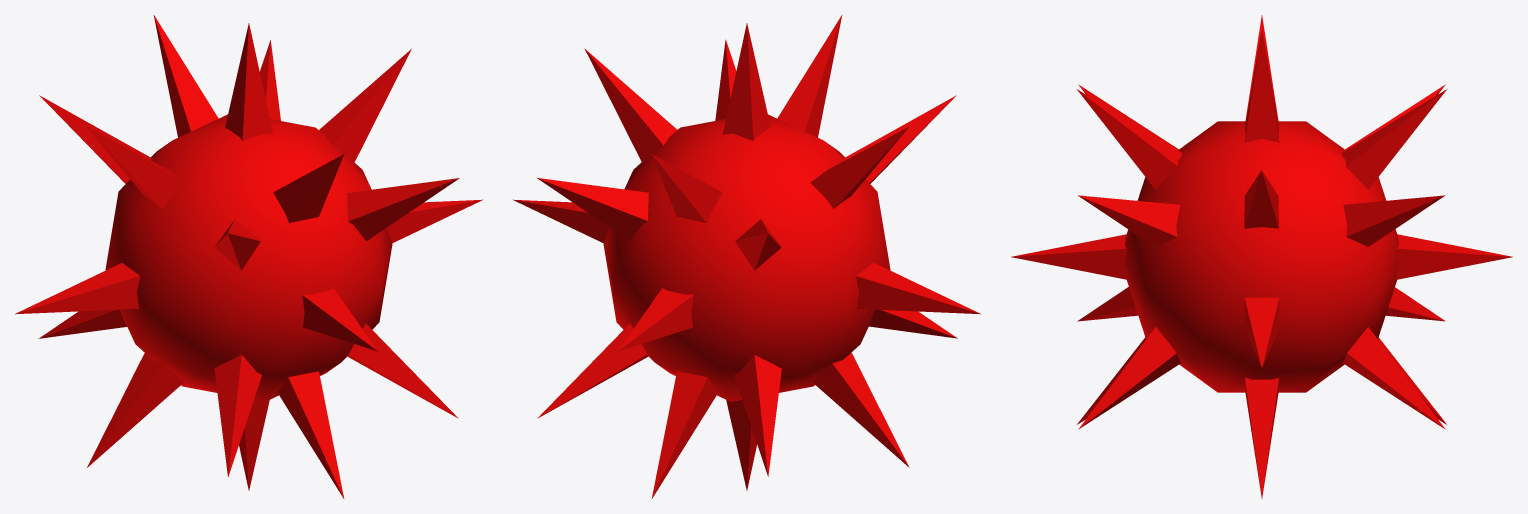
File: mine.fbx
The picture shows the model from 3 angles, left to right: view 1: azimuth 30°, elevation 25°; view 2: azimuth 150°, elevation 25°; view 3: azimuth 270°, elevation 25°; orthographic projection. The views are drawn at different scales.
Visible parts, largest first — view 1: mine; view 2: mine; view 3: mine.
Part boxes in pixels (x1=…): mine: x1=15, y1=15, x2=482, y2=498; mine: x1=513, y1=15, x2=980, y2=498; mine: x1=1011, y1=15, x2=1512, y2=498.
Size of the model in its own units: 43.67 by 41.73 by 41.73.
1 material, 1 textured.
